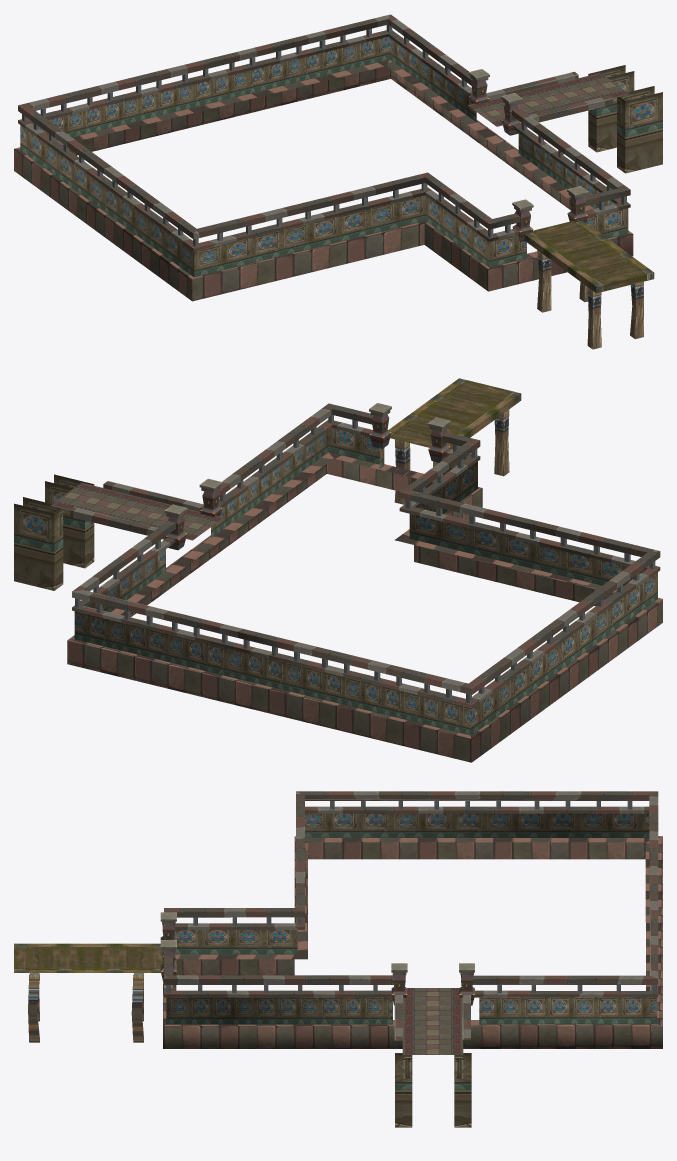
Rendered from dibiao.FBX.
3 renders of one model, top to bottom at view 1: azimuth 30°, elevation 25°; view 2: azimuth 150°, elevation 25°; view 3: azimuth 270°, elevation 25°, orthographic. The views are drawn at different scales.
Visible parts, largest first — view 1: 对象59, Box39, 对象03, 对象07, 对象46, Box04, 对象15, Box421; view 2: 对象59, Box39, 对象03, 对象07, 对象46, Box04, Box421, 对象15; view 3: 对象03, 对象59, Box39, 对象46, Box04, 对象07, Box421, 对象15.
Boxes of the visible parts, box(x1,y1,x2,y2) form: 对象59: box(20, 37, 628, 277); Box39: box(18, 14, 630, 251); 对象03: box(14, 60, 633, 301); 对象07: box(588, 65, 662, 173); 对象46: box(524, 220, 654, 293); Box04: box(468, 73, 629, 126); 对象15: box(537, 250, 643, 349); Box421: box(468, 69, 588, 241); 对象59: box(74, 428, 657, 735); Box39: box(70, 403, 660, 707); 对象03: box(67, 452, 662, 762); 对象07: box(14, 474, 94, 590); 对象46: box(388, 378, 521, 449); Box04: box(50, 483, 223, 540); Box421: box(164, 403, 450, 550); 对象15: box(394, 409, 509, 504); 对象03: box(163, 836, 662, 1048); 对象59: box(166, 813, 656, 1024); Box39: box(164, 791, 658, 1040); 对象46: box(14, 943, 163, 972); Box04: box(402, 988, 463, 1054); 对象07: box(395, 1053, 471, 1127); Box421: box(160, 912, 474, 1005); 对象15: box(28, 973, 143, 1042).
Bounding box in the file's own units: 21.57 × 4.04 × 22.63.
